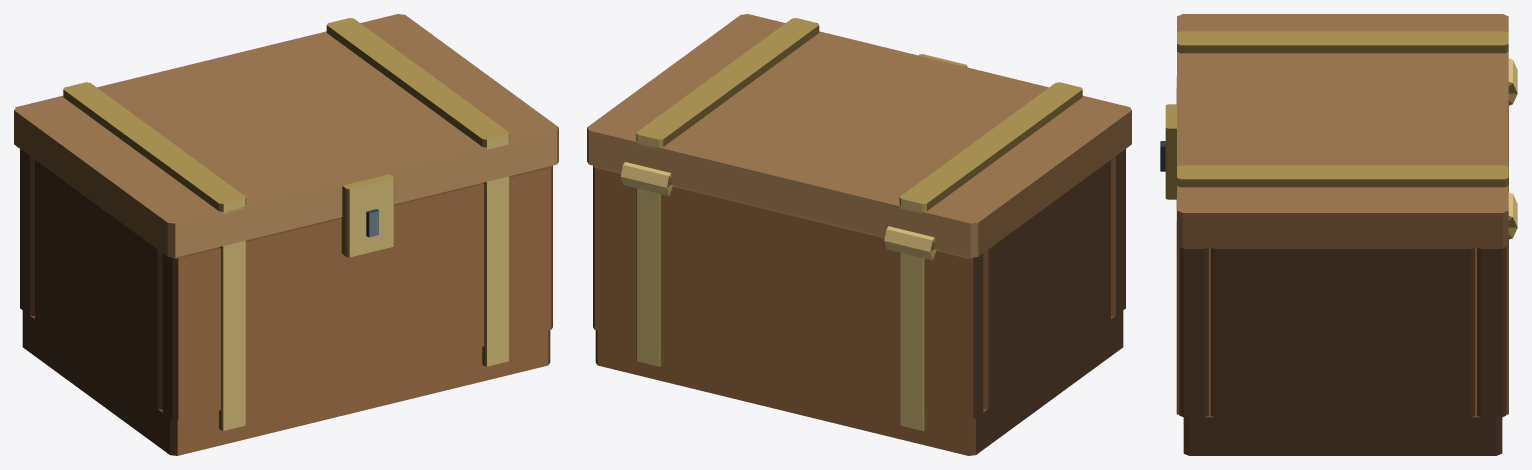
File: chest.fbx
3 views of the same model, side by side, from view 1: azimuth 30°, elevation 25°; view 2: azimuth 150°, elevation 25°; view 3: azimuth 270°, elevation 25° (orthographic). The views are drawn at different scales.
Visible parts, largest first — view 1: chest_body, chest_lid; view 2: chest_body, chest_lid; view 3: chest_lid, chest_body.
Boxes of the visible parts, left/top/right/bottom form: chest_body: left=20, top=149, right=552, bottom=455; chest_lid: left=14, top=14, right=558, bottom=257; chest_body: left=593, top=149, right=1125, bottom=455; chest_lid: left=587, top=14, right=1131, bottom=257; chest_lid: left=1160, top=14, right=1508, bottom=248; chest_body: left=1176, top=58, right=1517, bottom=455.
Size of the model in its own units: 2.88 by 1.72 by 2.19.
Materials: 1 (1 with a texture image).
